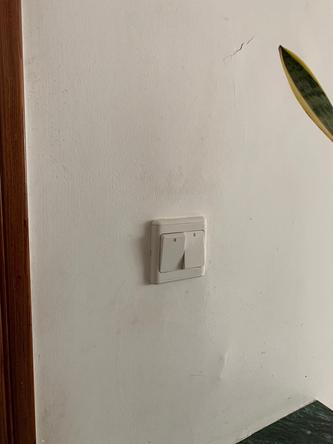switch: (160, 229, 187, 276), (181, 228, 207, 273)
